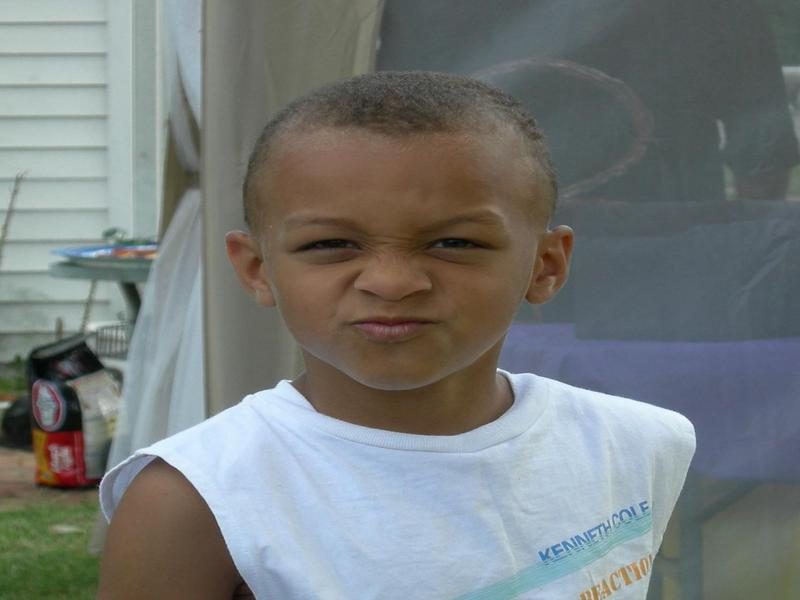person: (92, 67, 701, 600)
